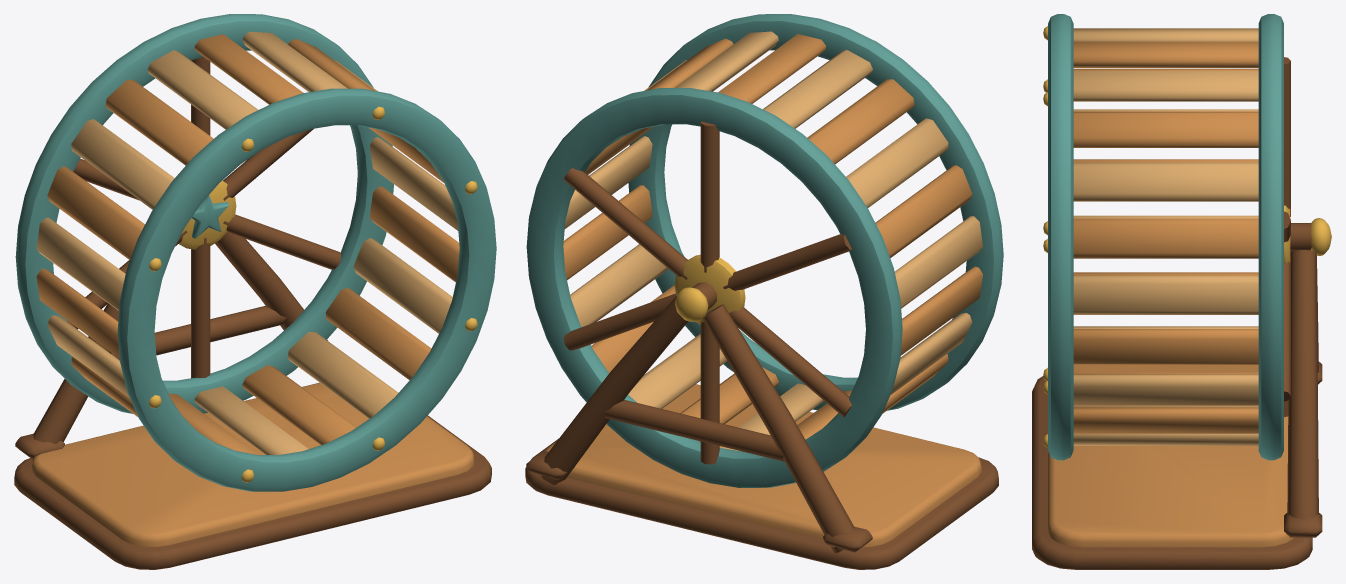
Rendered from ShopRunWheel.fbx.
3 views of the same model, side by side, from view 1: azimuth 30°, elevation 25°; view 2: azimuth 150°, elevation 25°; view 3: azimuth 270°, elevation 25° (orthographic). The views are drawn at different scales.
Visible parts, largest first — view 1: ShopRunWheel; view 2: ShopRunWheel; view 3: ShopRunWheel.
Boxes of the visible parts, x1=… form: ShopRunWheel: x1=14, y1=14, x2=496, y2=569; ShopRunWheel: x1=525, y1=14, x2=1003, y2=569; ShopRunWheel: x1=1032, y1=14, x2=1331, y2=569.
Size of the model in its own units: 1.4 by 1.53 by 0.94.
